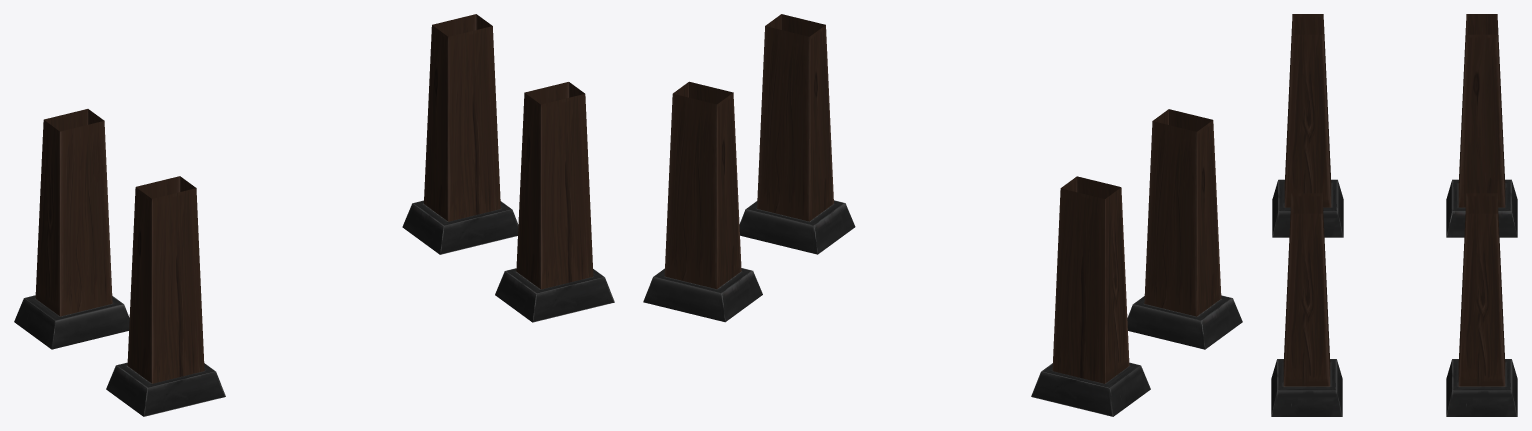
Rendered from tafelpoten.fbx.
The picture shows the model from 3 angles, left to right: view 1: azimuth 30°, elevation 25°; view 2: azimuth 150°, elevation 25°; view 3: azimuth 270°, elevation 25°; orthographic projection. The views are drawn at different scales.
Parts seen in each view (by area): view 1: pasted__pasted__pasted__pCube2 (×3), pasted__pasted__pasted__pasted__pCube2; view 2: pasted__pasted__pasted__pCube2 (×3), pasted__pasted__pasted__pasted__pCube2; view 3: pasted__pasted__pasted__pCube2 (×3), pasted__pasted__pasted__pasted__pCube2.
Part boxes in pixels (bbox=[...]): pasted__pasted__pasted__pCube2 (×3): bbox=[14, 14, 518, 416]; pasted__pasted__pasted__pasted__pCube2: bbox=[495, 82, 614, 322]; pasted__pasted__pasted__pCube2 (×3): bbox=[643, 81, 1242, 416]; pasted__pasted__pasted__pasted__pCube2: bbox=[739, 14, 855, 254]; pasted__pasted__pasted__pCube2 (×3): bbox=[1272, 14, 1517, 416]; pasted__pasted__pasted__pasted__pCube2: bbox=[1271, 193, 1342, 416].
Bounding box in the file's own units: 6.53 × 2.72 × 3.13.
